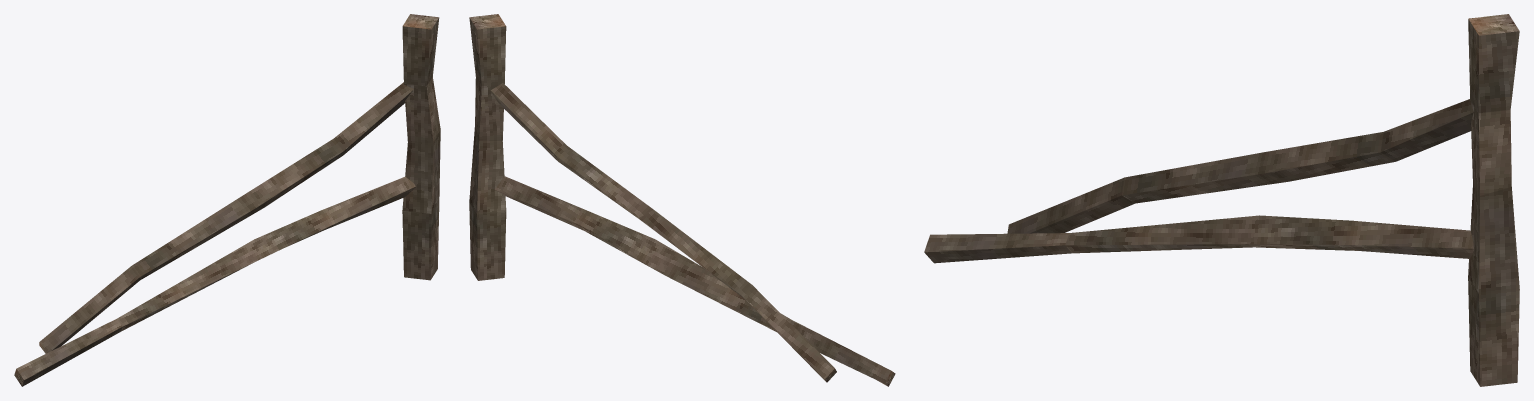
The model's file is wooden_fence_broken.glb.
3 views of the same model, side by side, from view 1: azimuth 30°, elevation 25°; view 2: azimuth 150°, elevation 25°; view 3: azimuth 330°, elevation 25° (orthographic). The views are drawn at different scales.
Visible parts, largest first — view 1: wooden_fence_broken; view 2: wooden_fence_broken; view 3: wooden_fence_broken.
Part boxes in pixels (x1,y1,x2,y2): wooden_fence_broken: (14,14,440,386); wooden_fence_broken: (469,14,895,386); wooden_fence_broken: (924,14,1519,386).
Size of the model in its own units: 2.11 by 1.27 by 0.2924.
Materials: 1 (1 with a texture image).
